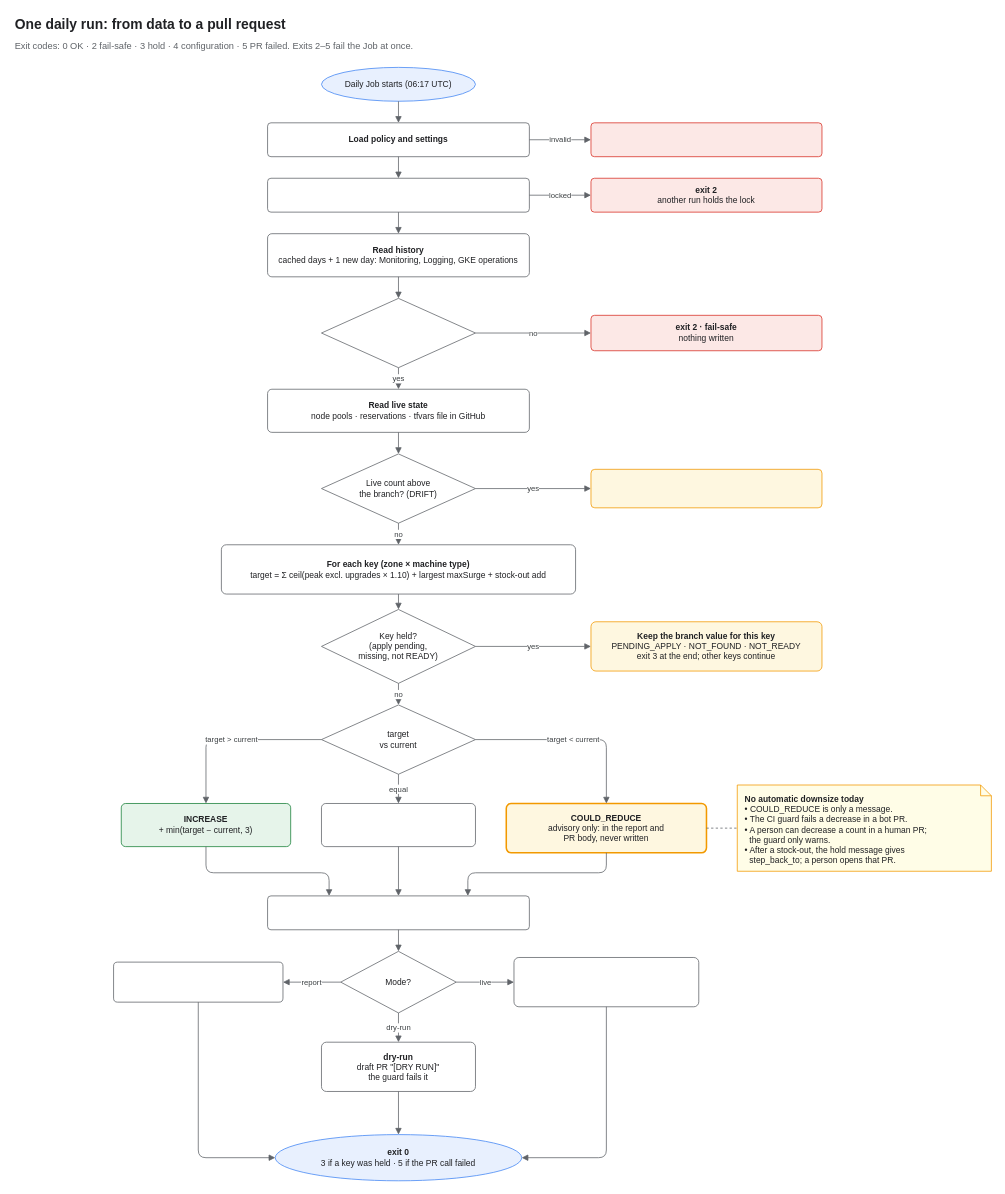
This 1005x1194 diagram has some shape labels left out. Each missing label, with the centre of its shape:
"Data complete? (coverage ≥ 90 %)" belongs at point (398, 333).
"exit 3 · hold every key close the open bot PR, write nothing" belongs at point (706, 488).
"exit 4 configuration error" belongs at point (706, 139).
"live open or update the PR close stale bot PRs" belongs at point (606, 982).
"Lock the history cache (PVC)" belongs at point (398, 194).
"OK no change" belongs at point (398, 825).
"report no GitHub writes" belongs at point (198, 981).
"Write report.json and the 'sizer result' log line" belongs at point (398, 912).
